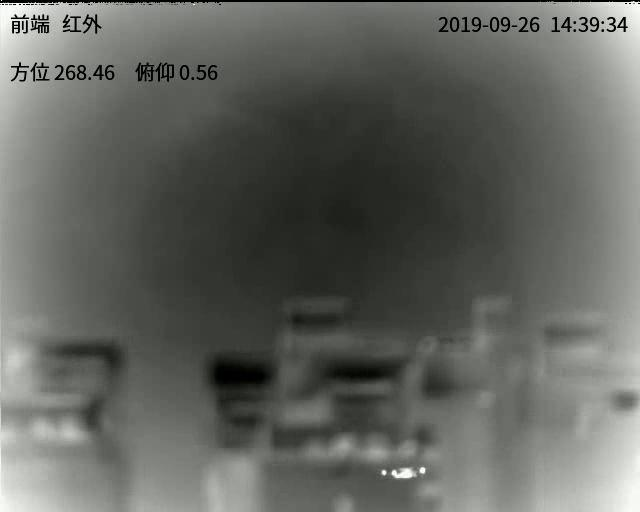DRONE: (380, 465, 427, 481)
